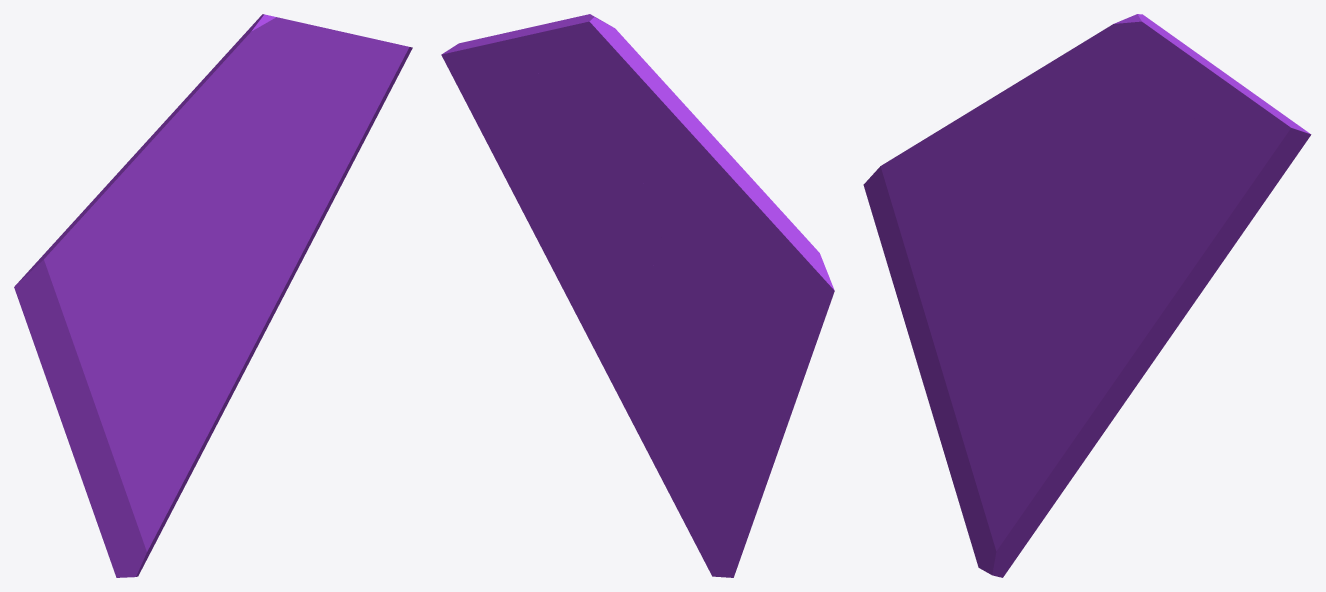
File: Glass_85_10_chunks.fbx
3 views of the same model, side by side, from view 1: azimuth 30°, elevation 25°; view 2: azimuth 150°, elevation 25°; view 3: azimuth 330°, elevation 25° (orthographic). The views are drawn at different scales.
Visible parts, largest first — view 1: Glass_85_10_5, Glass_85_10_9, Glass_85_10_6, Glass_85_10_7, Glass_85_10_12, Glass_85_10_4, Glass_85_10_0, Glass_85_10_11, Glass_85_10_2, Glass_85_10_3, Glass_85_10_8; view 2: Glass_85_10_6, Glass_85_10_0, Glass_85_10_12, Glass_85_10_9, Glass_85_10_4, Glass_85_10_2, Glass_85_10_5, Glass_85_10_7, Glass_85_10_8, Glass_85_10_3, Glass_85_10_11, Glass_85_10_1 (+1 smaller); view 3: Glass_85_10_6, Glass_85_10_9, Glass_85_10_5, Glass_85_10_7, Glass_85_10_4, Glass_85_10_12, Glass_85_10_2, Glass_85_10_0, Glass_85_10_11, Glass_85_10_3, Glass_85_10_8.
Part boxes in pixels (x1,y1,x2,y2): Glass_85_10_5: [36, 298, 168, 481]; Glass_85_10_9: [68, 96, 225, 257]; Glass_85_10_6: [82, 393, 231, 577]; Glass_85_10_7: [162, 252, 262, 404]; Glass_85_10_12: [187, 14, 352, 132]; Glass_85_10_4: [280, 34, 412, 174]; Glass_85_10_0: [14, 210, 179, 348]; Glass_85_10_11: [185, 94, 313, 256]; Glass_85_10_2: [244, 154, 357, 342]; Glass_85_10_3: [214, 148, 298, 299]; Glass_85_10_8: [106, 259, 178, 364]; Glass_85_10_6: [619, 385, 766, 577]; Glass_85_10_0: [645, 214, 834, 351]; Glass_85_10_12: [515, 14, 673, 129]; Glass_85_10_9: [644, 92, 795, 236]; Glass_85_10_4: [441, 31, 568, 168]; Glass_85_10_2: [495, 158, 622, 346]; Glass_85_10_5: [700, 323, 812, 482]; Glass_85_10_7: [593, 262, 681, 397]; Glass_85_10_8: [664, 271, 759, 393]; Glass_85_10_3: [572, 169, 646, 298]; Glass_85_10_11: [558, 103, 666, 241]; Glass_85_10_1: [556, 121, 598, 182]; Glass_85_10_6: [940, 385, 1107, 577]; Glass_85_10_9: [908, 64, 1084, 240]; Glass_85_10_5: [888, 243, 1020, 440]; Glass_85_10_7: [1013, 239, 1138, 427]; Glass_85_10_4: [1146, 74, 1311, 228]; Glass_85_10_12: [1047, 14, 1227, 128]; Glass_85_10_2: [1105, 210, 1249, 381]; Glass_85_10_0: [863, 149, 1032, 265]; Glass_85_10_11: [1039, 123, 1183, 250]; Glass_85_10_3: [1071, 170, 1166, 320]; Glass_85_10_8: [950, 239, 1031, 348].
Bounding box in the file's own units: 855 × 1095 × 27.2.
